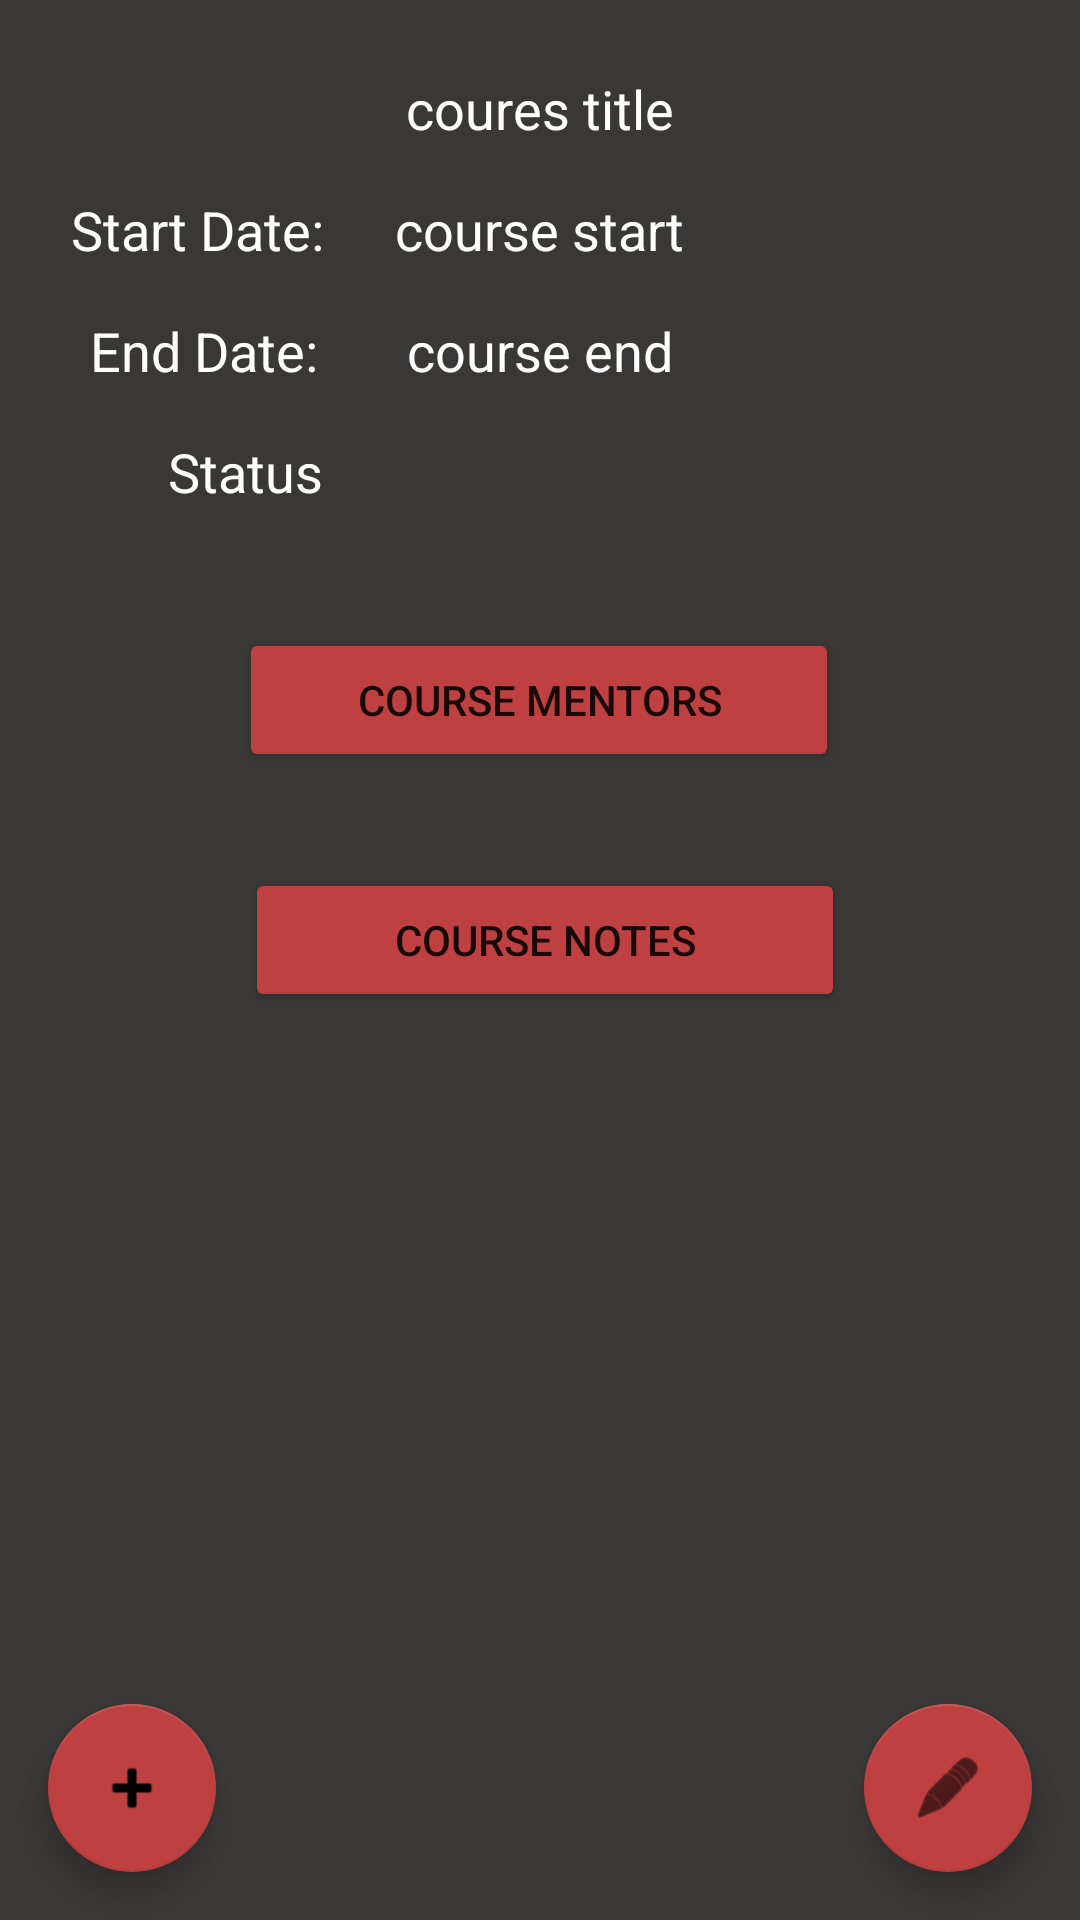

Locate icon controls on the screen. Image size 1080px x 1920px, boxes as rect(x1, y1, x2, y2).
add: rect(48, 1704, 216, 1872)
edit: rect(864, 1704, 1032, 1872)
